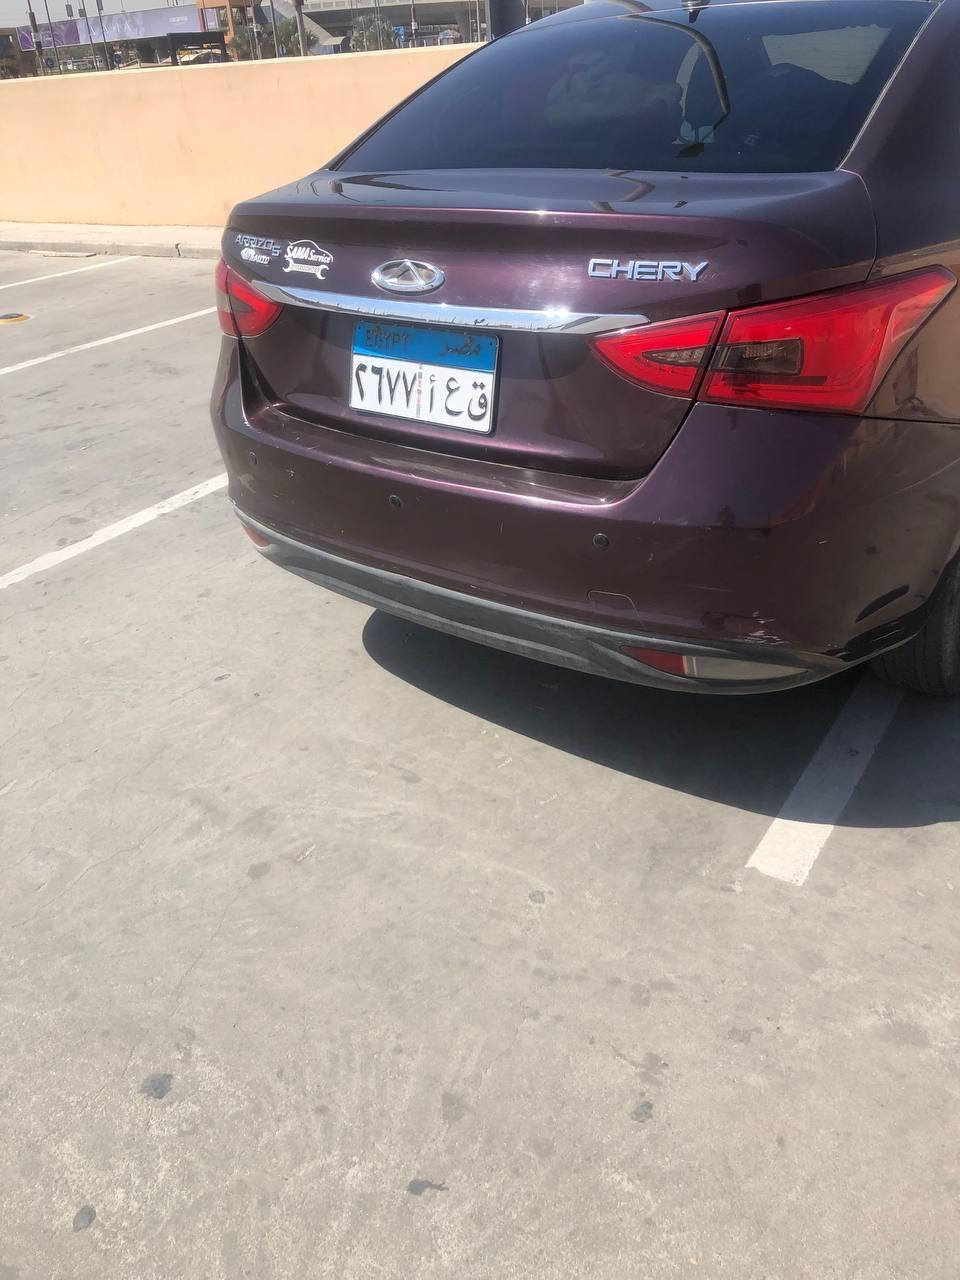2: (351, 359, 368, 406)
6: (364, 356, 387, 399)
7: (396, 367, 417, 406), (384, 364, 400, 402)
Een: (442, 371, 464, 418)
License Plate: (341, 296, 510, 450)
Q: (466, 373, 494, 429)
alef: (420, 368, 437, 412)
